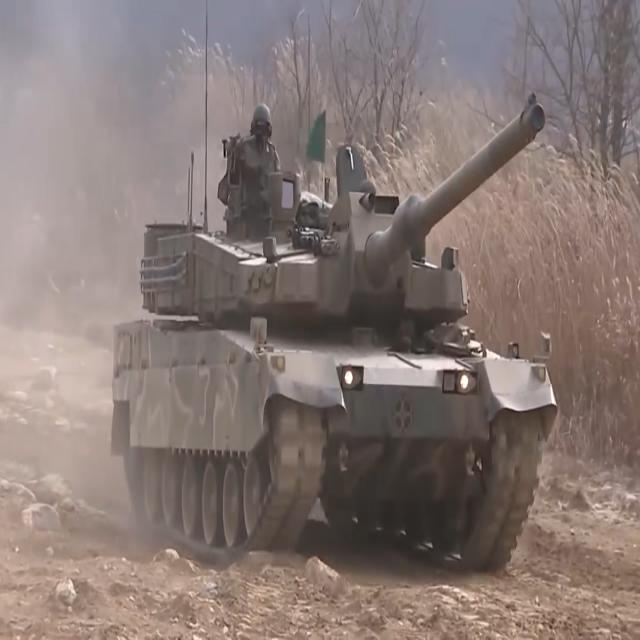korea tank: (108, 89, 560, 568)
